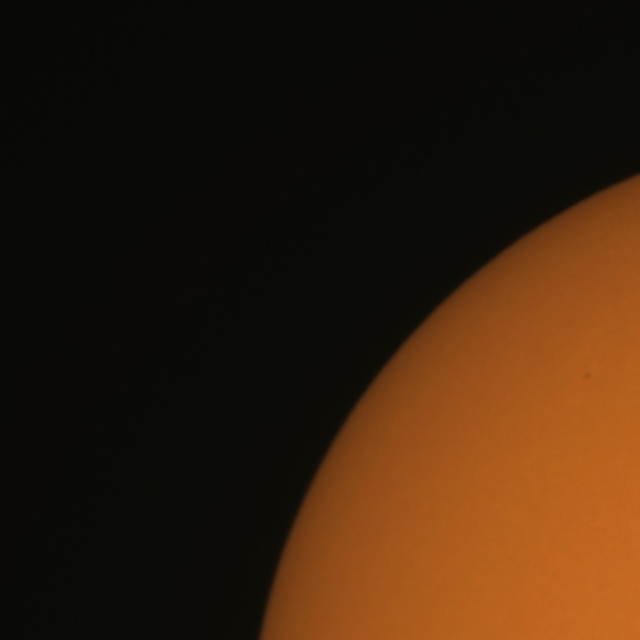sunspot: (582, 369, 594, 382)
